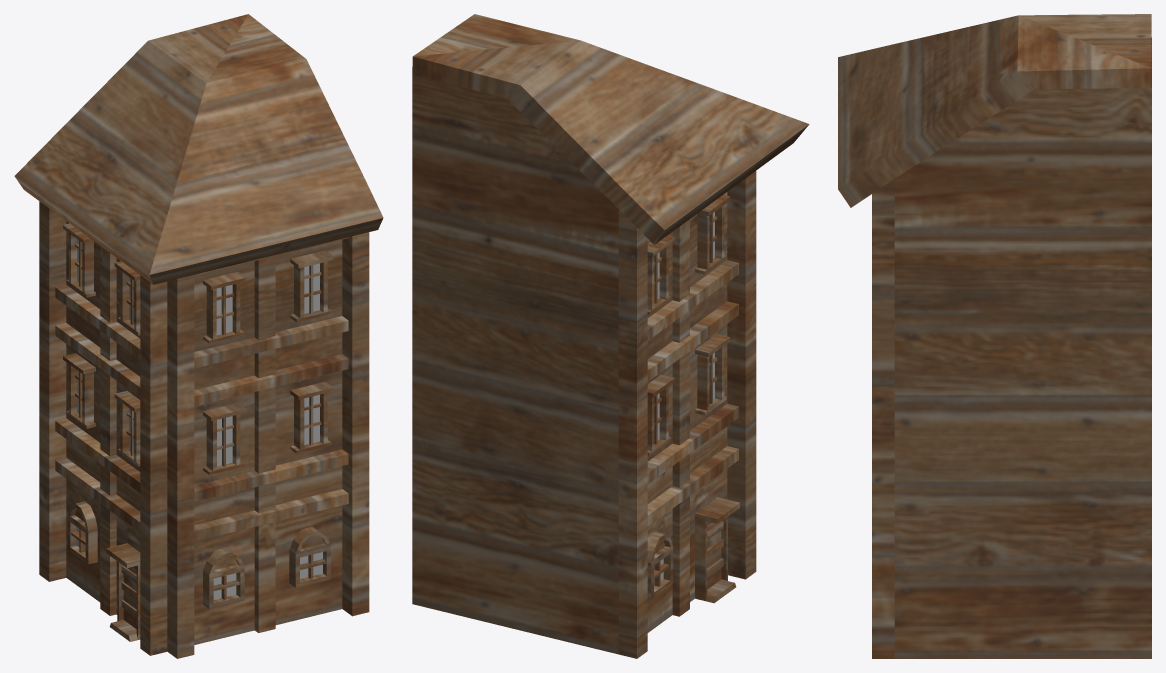
File: Townhouse_corner1.fbx
3 views of the same model, side by side, from view 1: azimuth 30°, elevation 25°; view 2: azimuth 150°, elevation 25°; view 3: azimuth 270°, elevation 25° (orthographic). The views are drawn at different scales.
Parts seen in each view (by area): view 1: townhouse_corner3; view 2: townhouse_corner3; view 3: townhouse_corner3.
Part boxes in pixels (box(x1,y1,x2,y2)): townhouse_corner3: box(14, 14, 383, 658); townhouse_corner3: box(412, 14, 809, 658); townhouse_corner3: box(838, 14, 1151, 658).
Size of the model in its own units: 36.62 by 76.07 by 36.61.
